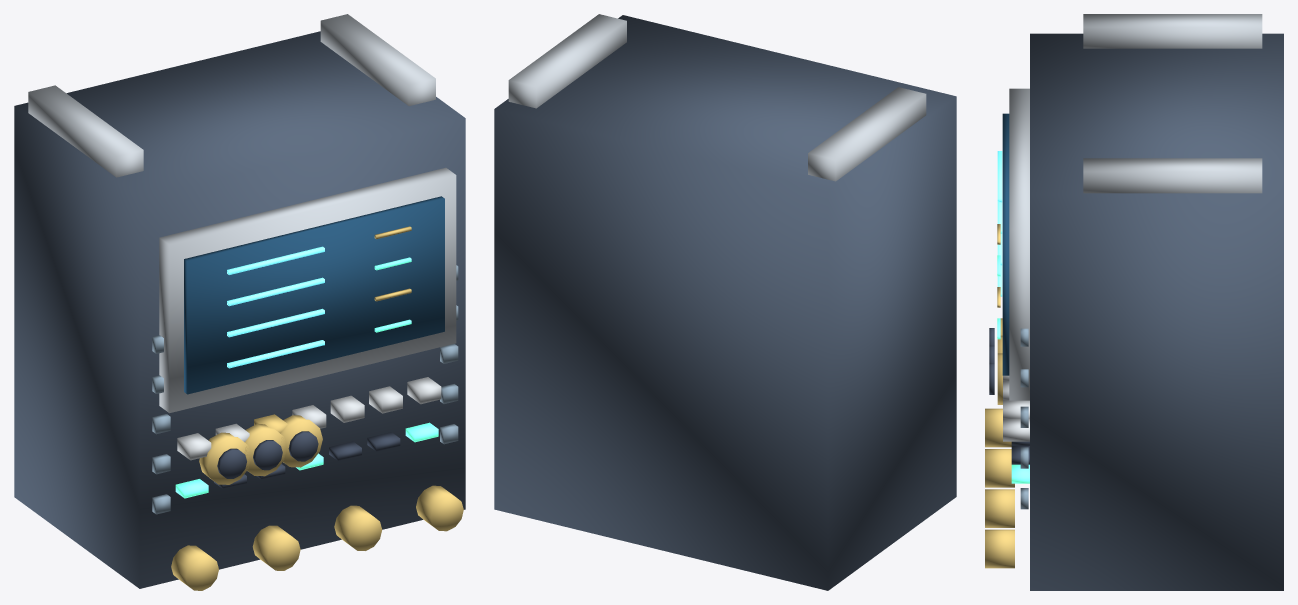
File: 62_L85_PressureLeakQualificationController.glb
3 views of the same model, side by side, from view 1: azimuth 30°, elevation 25°; view 2: azimuth 150°, elevation 25°; view 3: azimuth 270°, elevation 25° (orthographic). The views are drawn at different scales.
Visible parts, largest first — view 1: L85_PressureLeakQualification_Part_0000, L85_PressureLeakQualification_Part_0002, L85_PressureLeakQualification_Part_0001, L85_PressureLeakQualification_Part_0004, L85_PressureLeakQualification_Part_0006, L85_PressureLeakQualification_Part_0003, L85_PressureLeakQualification_Part_0008, L85_PressureLeakQualification_Part_0005, L85_PressureLeakQualification_Part_0009, L85_PressureLeakQualification_Part_0007, L85_PressureLeakQualification_Part_0011, L85_PressureLeakQualification_Part_0013 (+3 smaller); view 2: L85_PressureLeakQualification_Part_0000, L85_PressureLeakQualification_Part_0001; view 3: L85_PressureLeakQualification_Part_0000, L85_PressureLeakQualification_Part_0001, L85_PressureLeakQualification_Part_0004, L85_PressureLeakQualification_Part_0002, L85_PressureLeakQualification_Part_0006, L85_PressureLeakQualification_Part_0008, L85_PressureLeakQualification_Part_0003, L85_PressureLeakQualification_Part_0005.
Part boxes in pixels (<box>): L85_PressureLeakQualification_Part_0000: <box>14,31,465,588</box>; L85_PressureLeakQualification_Part_0002: <box>184,196,444,394</box>; L85_PressureLeakQualification_Part_0001: <box>28,14,456,413</box>; L85_PressureLeakQualification_Part_0004: <box>171,226,463,590</box>; L85_PressureLeakQualification_Part_0006: <box>177,377,441,460</box>; L85_PressureLeakQualification_Part_0003: <box>227,246,324,368</box>; L85_PressureLeakQualification_Part_0008: <box>152,265,458,514</box>; L85_PressureLeakQualification_Part_0005: <box>175,257,438,498</box>; L85_PressureLeakQualification_Part_0009: <box>199,432,251,484</box>; L85_PressureLeakQualification_Part_0007: <box>214,432,400,488</box>; L85_PressureLeakQualification_Part_0011: <box>244,424,287,476</box>; L85_PressureLeakQualification_Part_0013: <box>280,415,322,467</box>; L85_PressureLeakQualification_Part_0000: <box>494,15,956,590</box>; L85_PressureLeakQualification_Part_0001: <box>508,14,926,181</box>; L85_PressureLeakQualification_Part_0000: <box>1030,33,1283,590</box>; L85_PressureLeakQualification_Part_0001: <box>1009,14,1262,400</box>; L85_PressureLeakQualification_Part_0004: <box>985,224,1014,568</box>; L85_PressureLeakQualification_Part_0002: <box>1002,113,1009,375</box>; L85_PressureLeakQualification_Part_0006: <box>1003,375,1029,441</box>; L85_PressureLeakQualification_Part_0008: <box>1020,328,1028,509</box>; L85_PressureLeakQualification_Part_0003: <box>997,151,1002,296</box>; L85_PressureLeakQualification_Part_0005: <box>997,255,1029,483</box>.
Size of the model in its own units: 0.9588 by 1.16 by 0.752.
